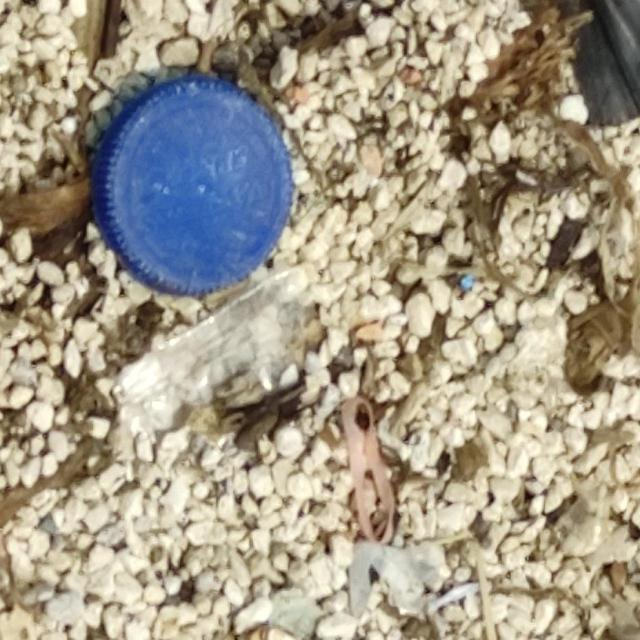plastic_waste: (88, 76, 294, 296)
